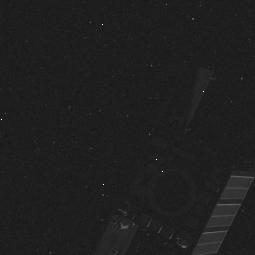proba_2: (136, 79, 239, 255)
